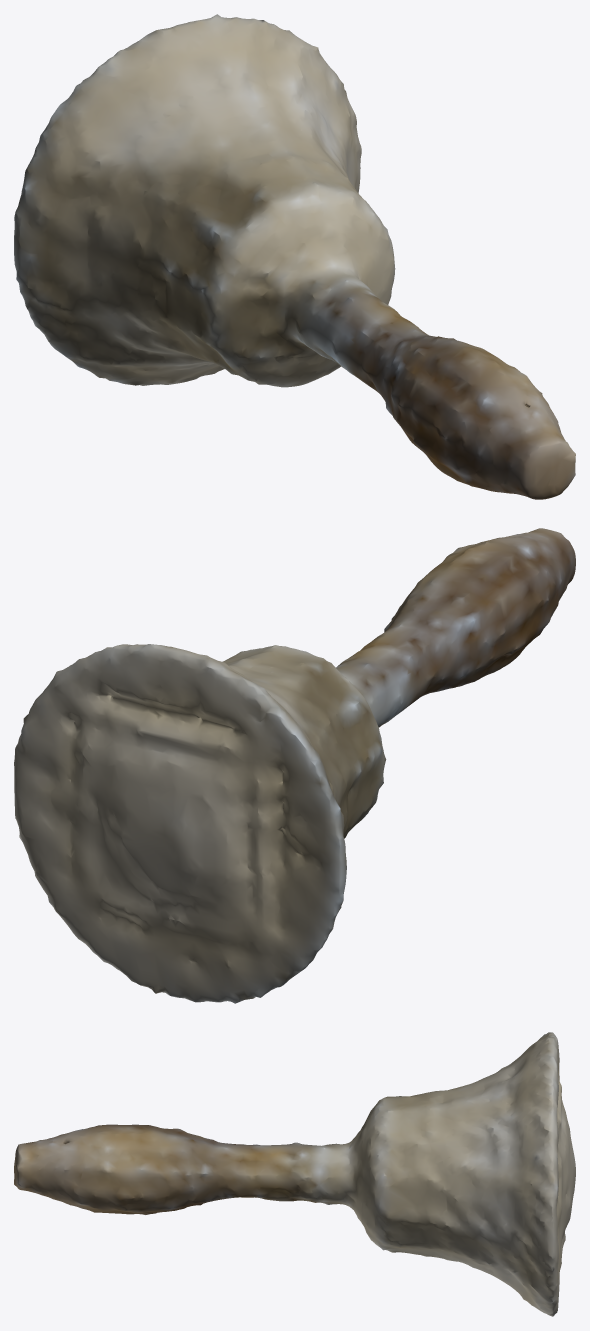
Rendered from bell.glb.
The picture shows the model from 3 angles, top to bottom: view 1: azimuth 30°, elevation 25°; view 2: azimuth 150°, elevation 25°; view 3: azimuth 270°, elevation 25°; orthographic projection. The views are drawn at different scales.
Bounding box in the file's own units: 0.5002 × 0.4994 × 0.9974.
